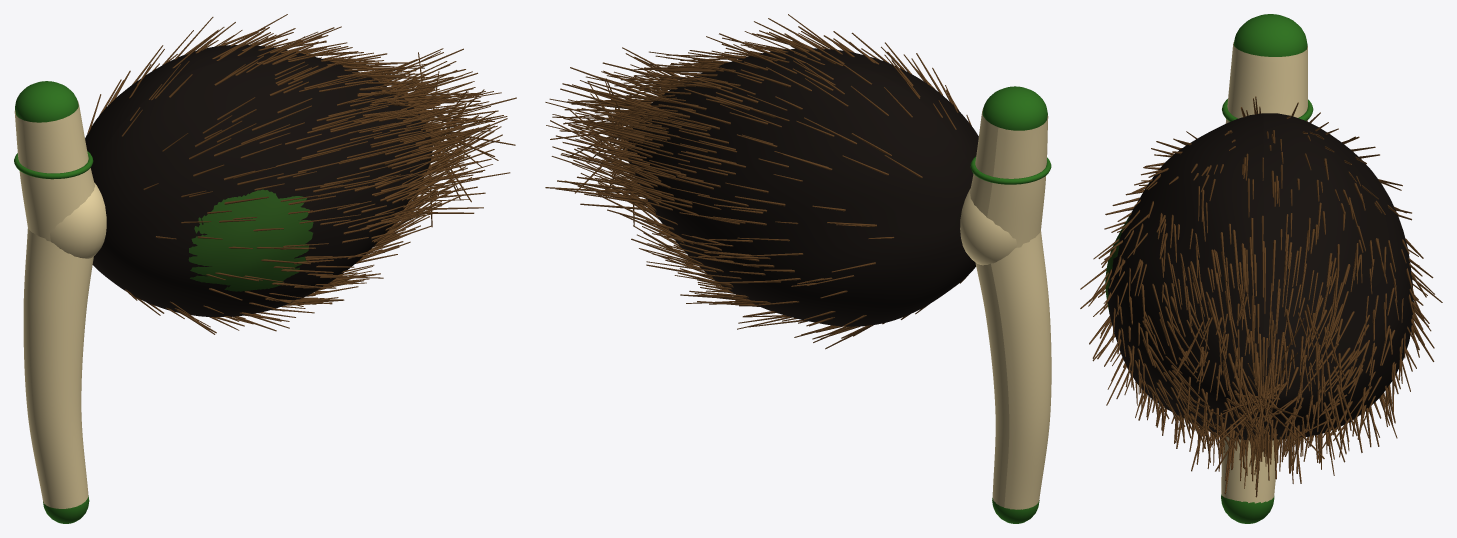
File: kecambah_sawit.obj
3 renders of one model, left to right at view 1: azimuth 30°, elevation 25°; view 2: azimuth 150°, elevation 25°; view 3: azimuth 270°, elevation 25°, orthographic. The views are drawn at different scales.
Parts seen in each view (by area): view 1: shell, fibers, radicle, moss_patch, plumule, germ_collar, plumule_tip, radicle_tip, plumule_crease; view 2: shell, fibers, radicle, plumule, germ_collar, plumule_tip, plumule_crease, radicle_tip; view 3: shell, fibers, plumule, plumule_tip, radicle, radicle_tip.
Boxes of the visible parts, left/top/right/bottom form: shell: left=85, top=45, right=432, bottom=316; fibers: left=87, top=14, right=516, bottom=334; radicle: left=23, top=228, right=93, bottom=508; moss_patch: left=188, top=189, right=313, bottom=291; plumule: left=14, top=100, right=94, bottom=241; germ_collar: left=50, top=183, right=106, bottom=258; plumule_tip: left=15, top=81, right=78, bottom=122; radicle_tip: left=43, top=495, right=89, bottom=523; plumule_crease: left=14, top=151, right=93, bottom=179; shell: left=627, top=48, right=978, bottom=326; fibers: left=545, top=14, right=971, bottom=349; radicle: left=975, top=230, right=1051, bottom=509; plumule: left=970, top=108, right=1048, bottom=247; germ_collar: left=960, top=188, right=1017, bottom=265; plumule_tip: left=982, top=86, right=1047, bottom=130; plumule_crease: left=970, top=156, right=1051, bottom=184; radicle_tip: left=992, top=498, right=1039, bottom=523; shell: left=1107, top=113, right=1413, bottom=440; fibers: left=1080, top=96, right=1442, bottom=497; plumule: left=1225, top=41, right=1307, bottom=123; plumule_tip: left=1233, top=14, right=1307, bottom=56; radicle: left=1221, top=436, right=1278, bottom=503; radicle_tip: left=1221, top=494, right=1274, bottom=523.
Size of the model in its own units: 0.0368 by 0.0314 by 0.0206.
